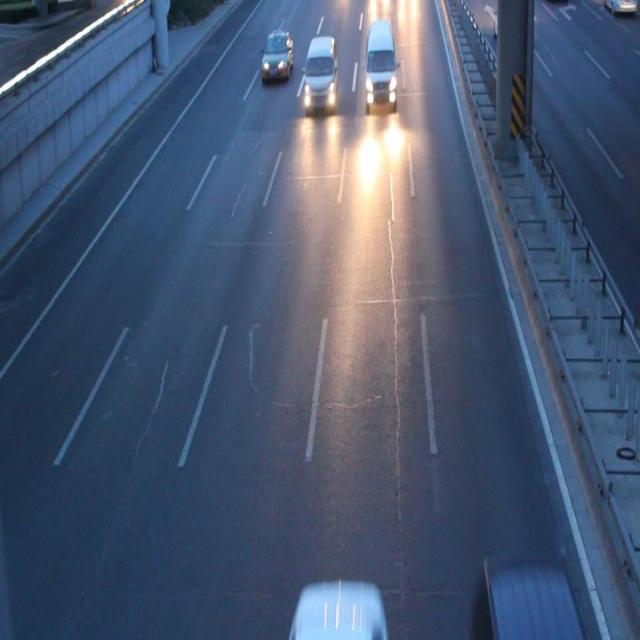car: (289, 585, 384, 640), (261, 32, 292, 76), (492, 1, 528, 38)
truck: (479, 563, 582, 640), (364, 21, 396, 104), (303, 38, 337, 107)
